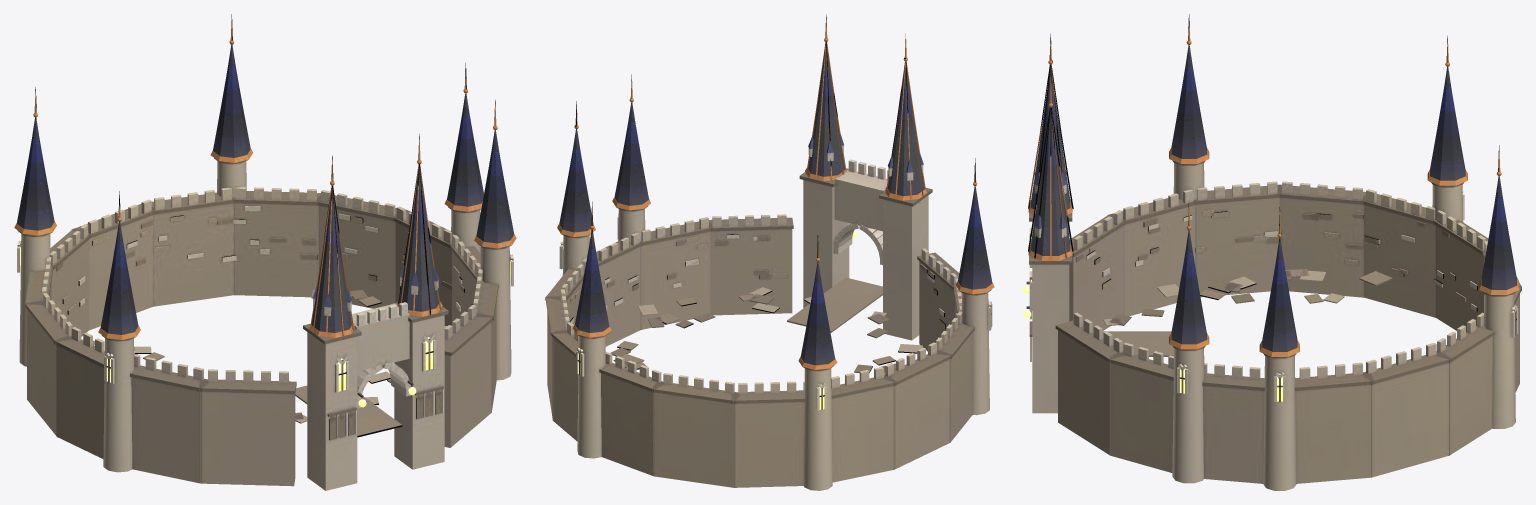
The model's file is gothic_wall.glb.
The picture shows the model from 3 angles, left to right: view 1: azimuth 30°, elevation 25°; view 2: azimuth 150°, elevation 25°; view 3: azimuth 270°, elevation 25°; orthographic projection. The views are drawn at different scales.
Parts seen in each view (by area): view 1: main, glow; view 2: main; view 3: main.
Boxes of the visible parts, box(x1,y1,x2,y2) form: main: box(14, 14, 516, 490); glow: box(18, 246, 512, 407); main: box(545, 14, 994, 490); main: box(1026, 14, 1521, 490).
Size of the model in its own units: 40.33 by 29.3 by 40.28.
2 materials, 1 textured.
